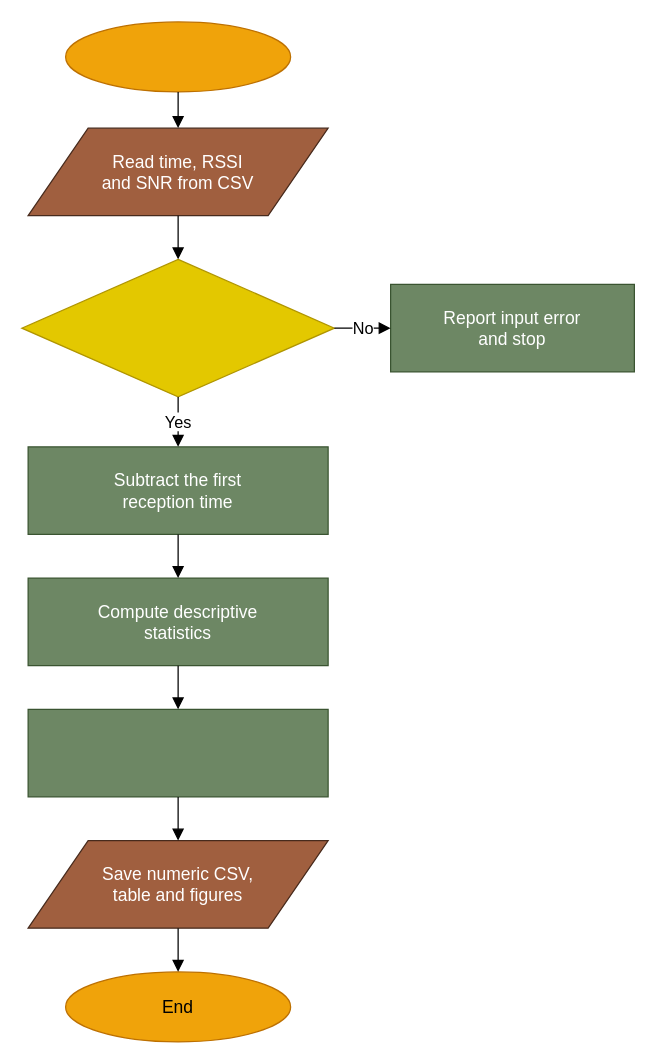
Image size: 656x1064. Some labels were removed from this diagram. Here are the shapes that lost their labels. From the top down, the centre of each, then its label:
(x=177, y=56): Start
(x=177, y=327): Finite values and ordered timestamps
(x=177, y=752): Plot all 108 samples without interpolation
